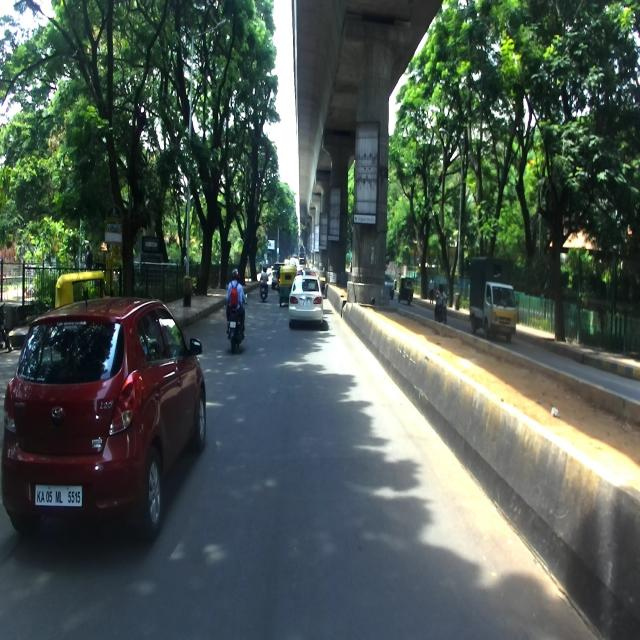Car_Hyundai: (1, 248, 206, 543)
